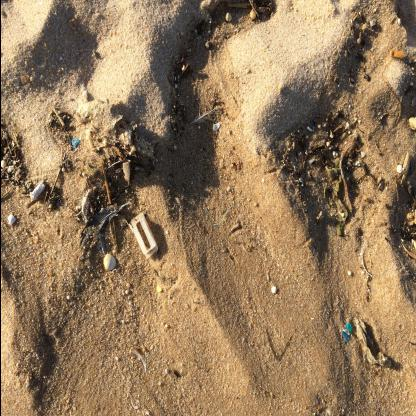plastik: (130, 212, 158, 258)
